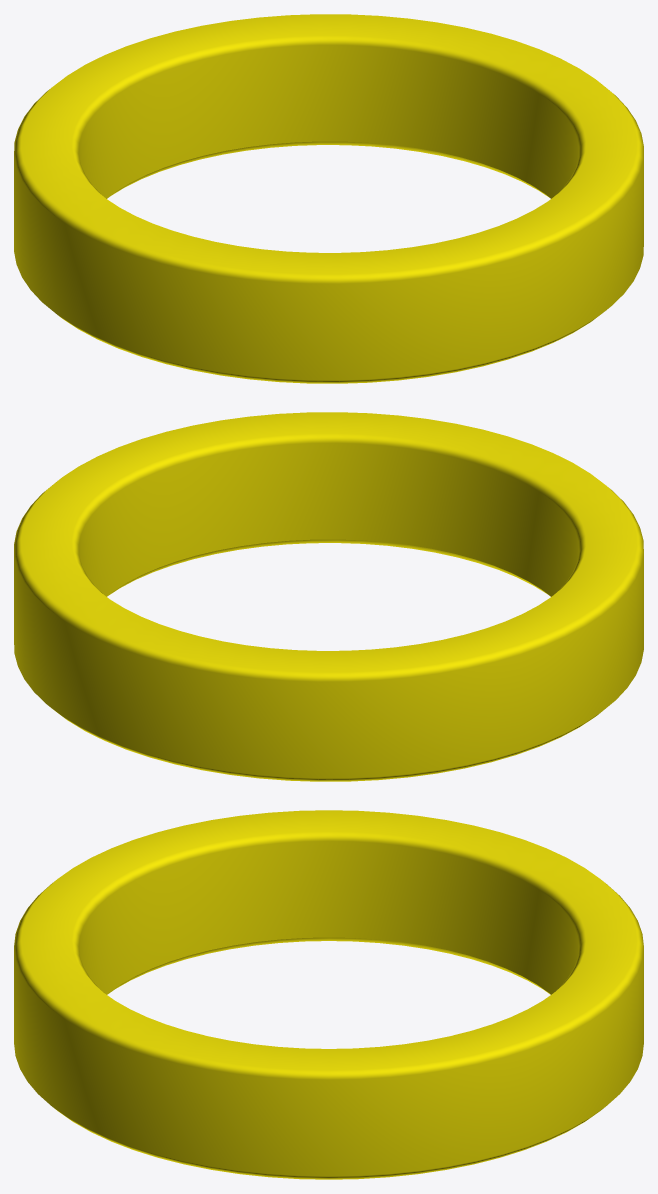
3 renders of one model, top to bottom at view 1: azimuth 30°, elevation 25°; view 2: azimuth 150°, elevation 25°; view 3: azimuth 270°, elevation 25°, orthographic.
Parts seen in each view (by area): view 1: seal_body; view 2: seal_body; view 3: seal_body.
Part boxes in pixels (left/top/right/bottom): seal_body: left=14, top=14, right=643, bottom=383; seal_body: left=14, top=412, right=643, bottom=781; seal_body: left=14, top=810, right=643, bottom=1179.
Size of the model in its own units: 0.036 by 0.0069 by 0.036.
